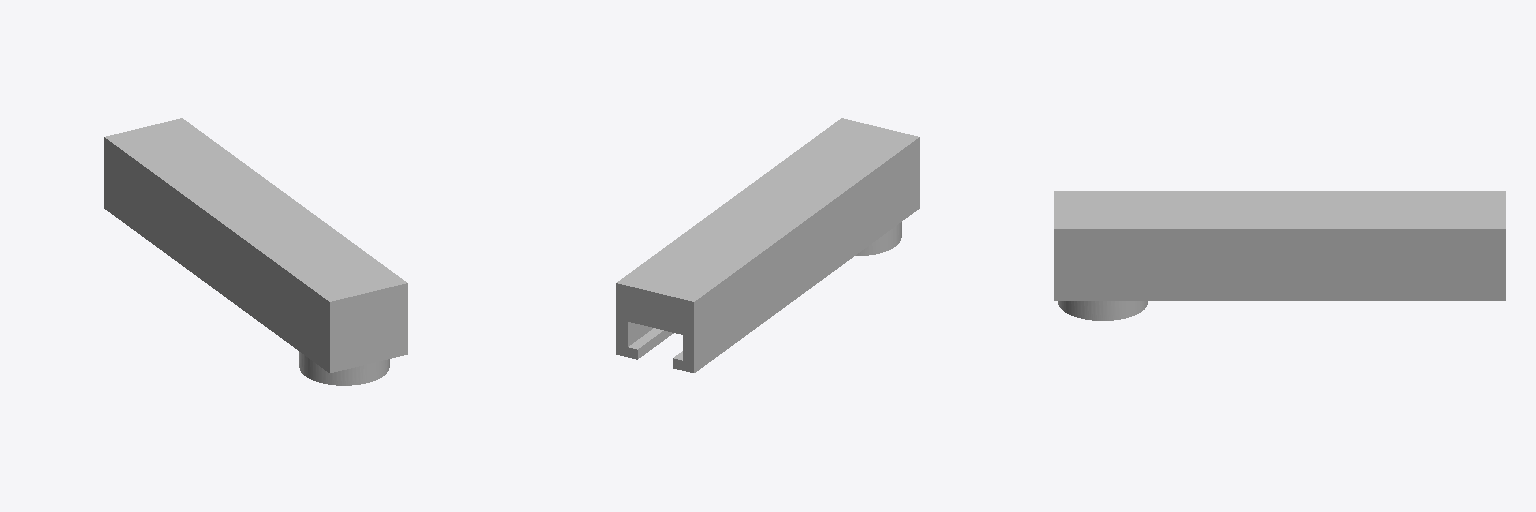
File: boom.obj
The picture shows the model from 3 angles: view 1: azimuth 30°, elevation 25°; view 2: azimuth 150°, elevation 25°; view 3: azimuth 270°, elevation 25°; orthographic projection.
Visible parts, largest first — view 1: 19, 20; view 2: 19, 11, 9, 17; view 3: 19, 20, 142.
Boxes of the visible parts, x1,y1,x2,y2 form: 19: [104, 118, 407, 372]; 20: [304, 355, 389, 385]; 19: [617, 118, 919, 372]; 11: [617, 283, 693, 370]; 9: [616, 283, 681, 334]; 17: [616, 285, 636, 359]; 19: [1054, 191, 1505, 300]; 20: [1058, 301, 1106, 320]; 142: [1105, 301, 1147, 320].
Bounding box in the file's own units: 4 × 4.5 × 20.